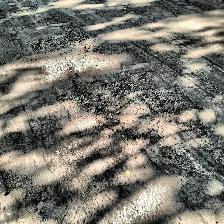pothole: (67, 70, 139, 130)
